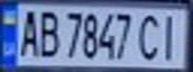4: (97, 9, 118, 61)
7: (60, 8, 81, 59), (115, 10, 136, 60)
8: (78, 9, 100, 60)
A: (15, 6, 42, 58)
B: (33, 7, 60, 58)
C: (136, 10, 166, 61)
I: (157, 11, 184, 61)
